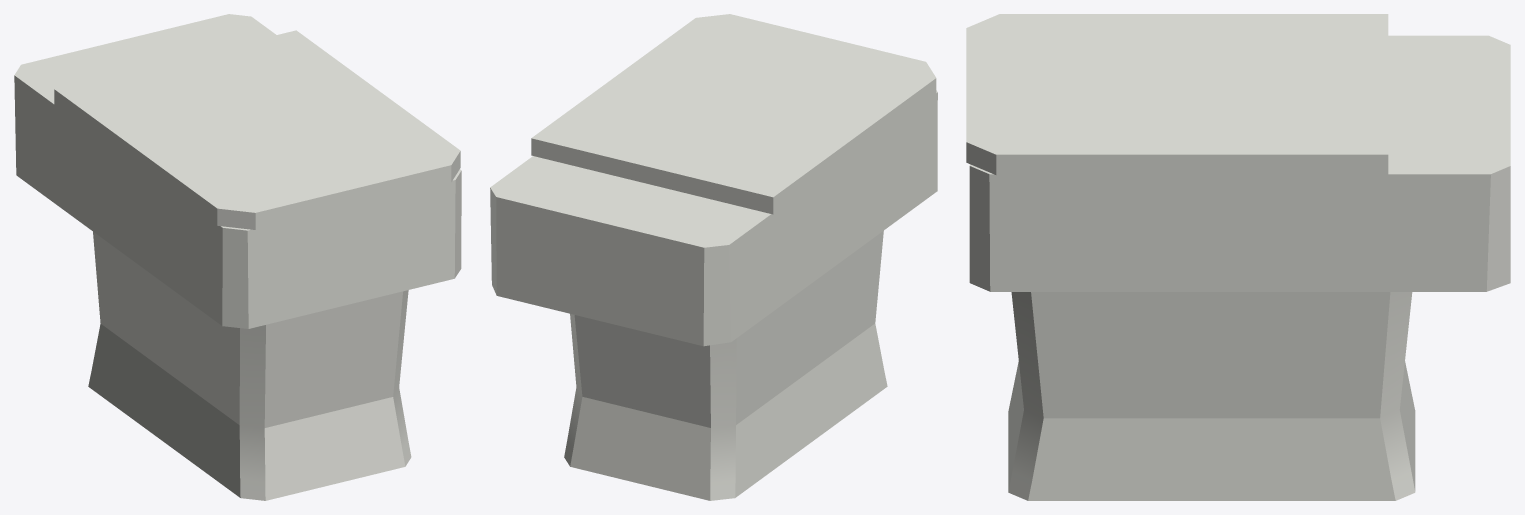
The model's file is Toilet_Seat.fbx.
3 views of the same model, side by side, from view 1: azimuth 30°, elevation 25°; view 2: azimuth 150°, elevation 25°; view 3: azimuth 270°, elevation 25° (orthographic). The views are drawn at different scales.
Visible parts, largest first — view 1: polySurface1805; view 2: polySurface1805; view 3: polySurface1805.
Boxes of the visible parts, left/top/right/bottom form: polySurface1805: left=14, top=14, right=461, bottom=500; polySurface1805: left=490, top=14, right=937, bottom=500; polySurface1805: left=966, top=14, right=1510, bottom=500.
Bounding box in the file's own units: 0.5909 × 0.7183 × 0.9651.
1 material, 1 textured.
